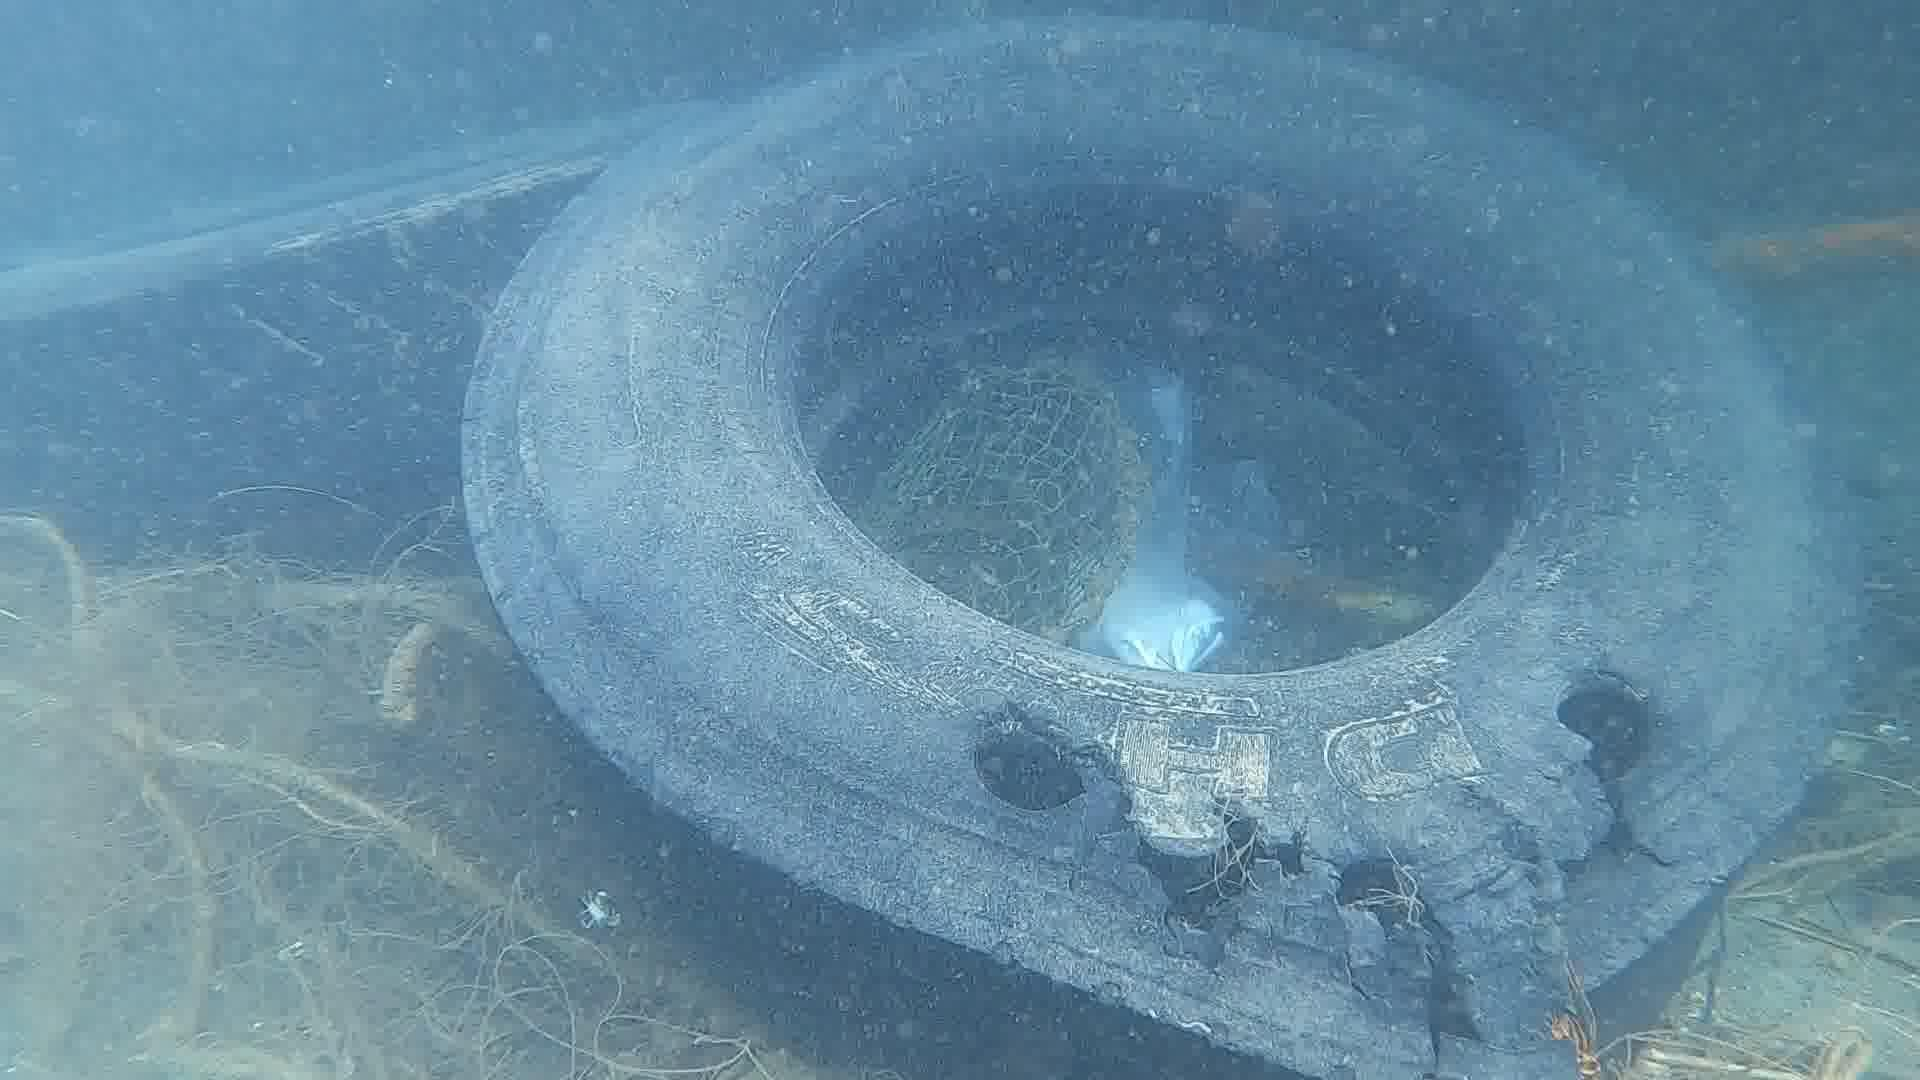fish net: (864, 359, 1143, 642)
tire: (456, 15, 1870, 1080)
